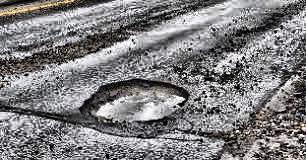pothole: (79, 78, 191, 123)
